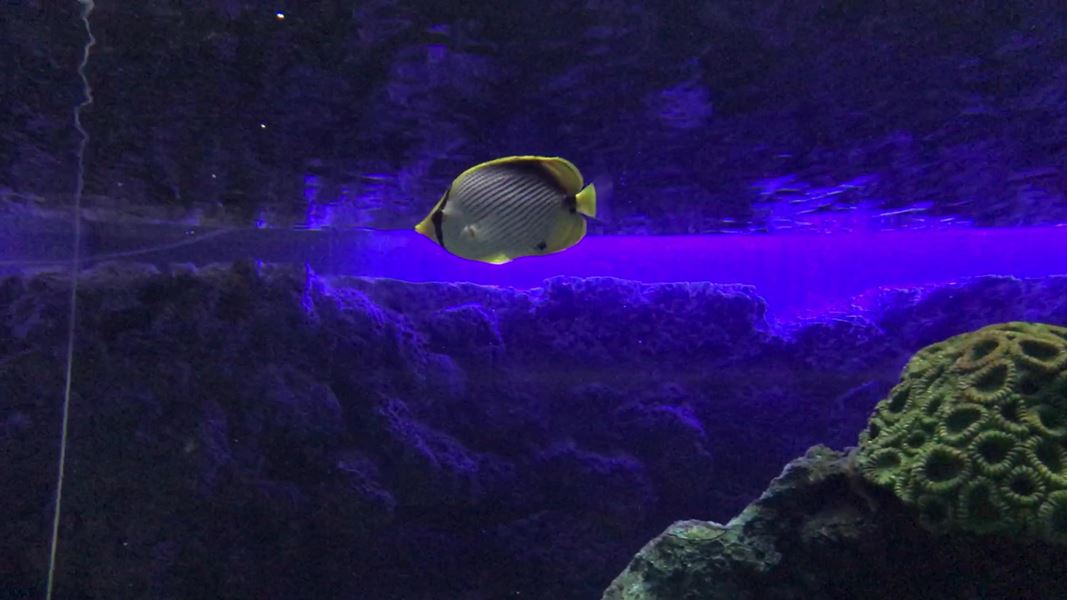Black-backed butterflyfish: (404, 148, 624, 273)
